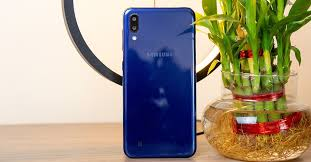samsung: (120, 7, 200, 162)
